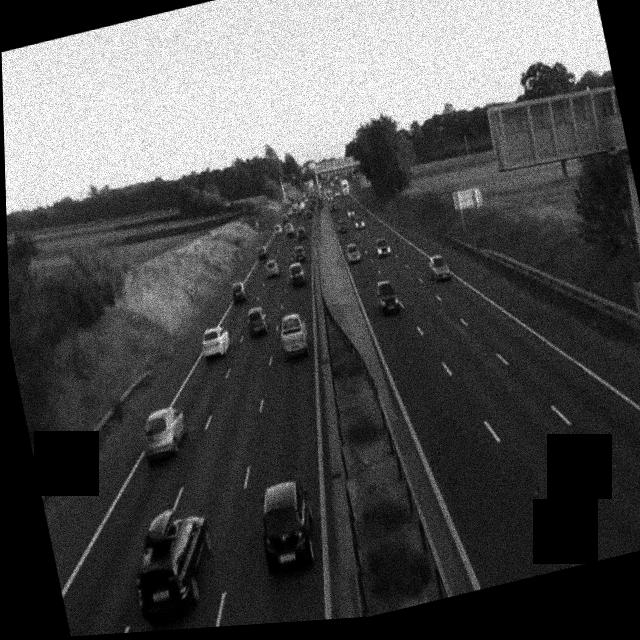car: (120, 502, 224, 626), (251, 477, 324, 575), (136, 402, 192, 462), (275, 310, 312, 360), (198, 323, 234, 362), (375, 278, 402, 317), (244, 304, 271, 336), (426, 252, 451, 284), (287, 259, 308, 287), (229, 279, 249, 304), (262, 256, 279, 279), (345, 241, 362, 264), (374, 237, 391, 259), (292, 244, 307, 264), (255, 243, 269, 260), (336, 217, 349, 234), (353, 213, 365, 230), (296, 225, 306, 239), (329, 202, 339, 216)
truck: (338, 177, 349, 196)
